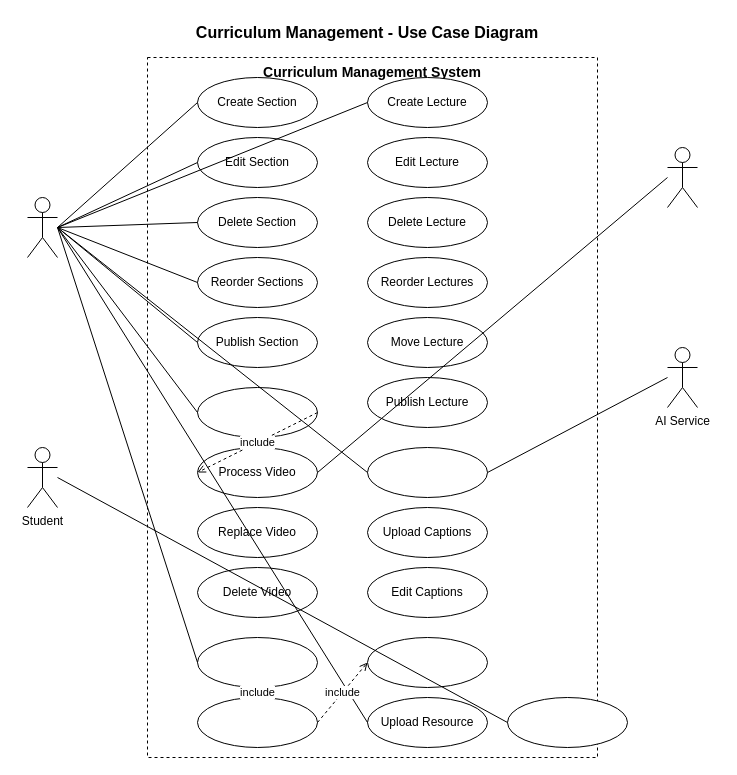
Image size: 737x775. Some labels were removed from this diagram. The shapes that lost their labels are listed below. From the top down, each one's centre as x and y in pixels, then its label:
the point at 682,177: Media Service
the point at 42,227: Instructor
the point at 257,412: Upload Video
the point at 427,472: Generate Captions
the point at 257,662: Create Article
the point at 427,662: Embed Media
the point at 257,722: Edit Article
the point at 567,722: Download Resource
